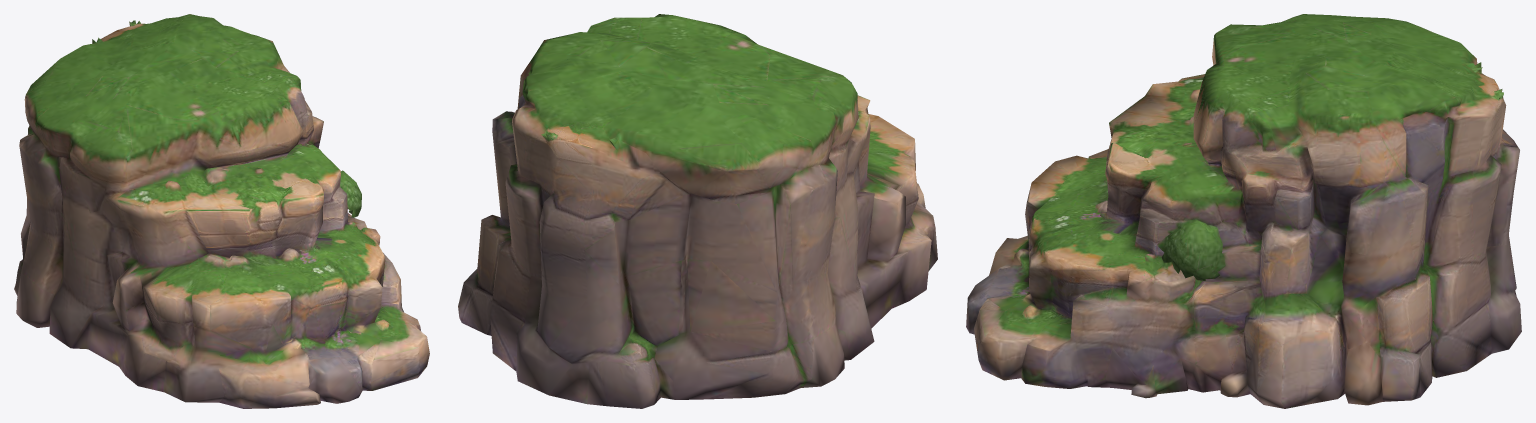
Rendered from outcrop_b.glb.
3 views of the same model, side by side, from view 1: azimuth 30°, elevation 25°; view 2: azimuth 150°, elevation 25°; view 3: azimuth 270°, elevation 25° (orthographic). The views are drawn at different scales.
Visible parts, largest first — view 1: outcrop_b; view 2: outcrop_b; view 3: outcrop_b.
Part boxes in pixels (left/top/right/bottom): outcrop_b: left=14, top=14, right=429, bottom=408; outcrop_b: left=458, top=14, right=937, bottom=408; outcrop_b: left=966, top=14, right=1521, bottom=408.
Size of the model in its own units: 2.64 by 1.9 by 3.58.
1 material, 1 textured.
